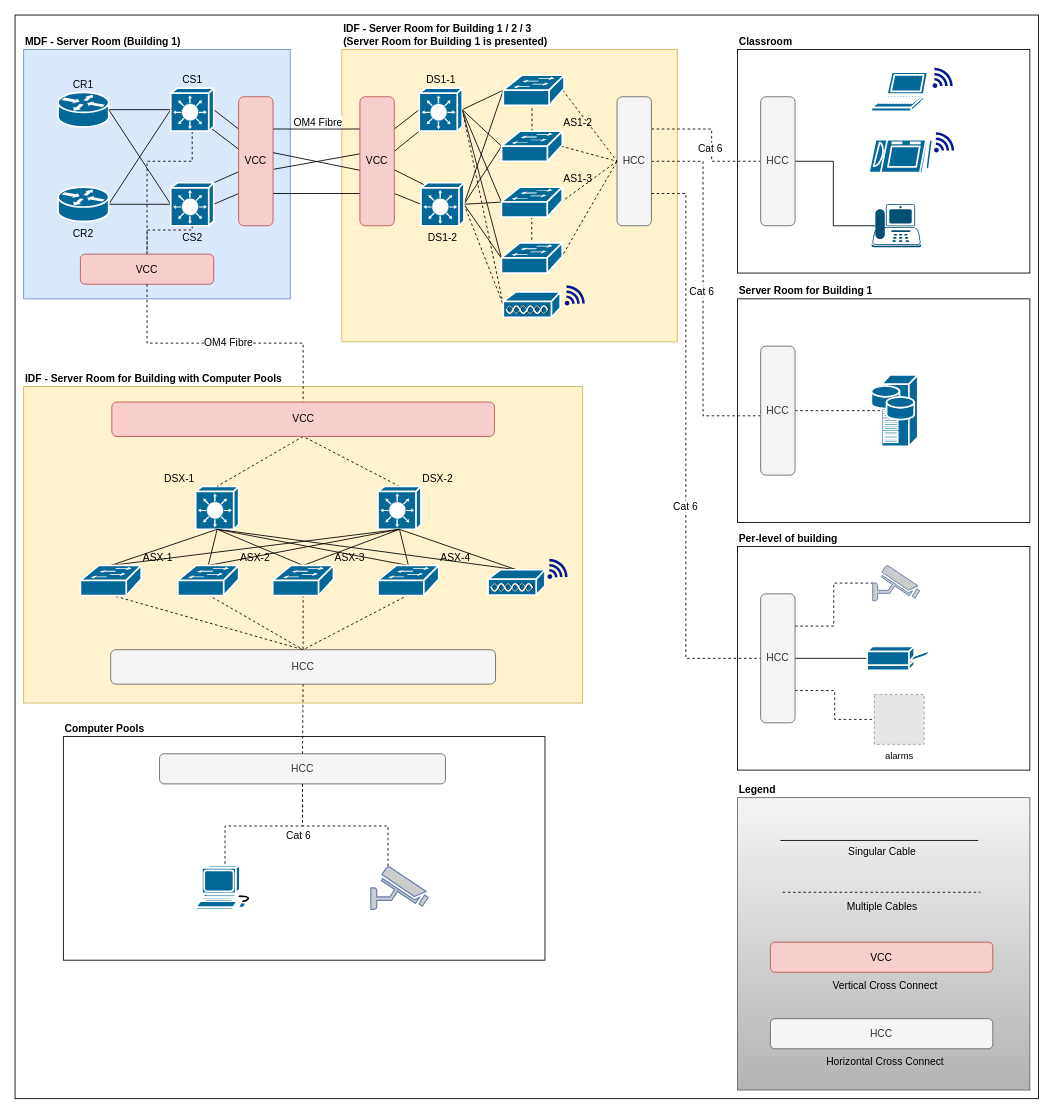
Image size: 1054x1114. Some labels were removed from this diagram. Grey dashed boxes stand in for pictures. Each missing label, with the centre of its shape:
"1 IP Phone" belongs at (896,225).
"1 printer" belongs at (899,658).
"AP1-1 to AP1-20" belongs at (531,304).
"APX-1 to APX-20" belongs at (516,582).
"AS1-1" belongs at (533,90).
"AS1-4" belongs at (531,257).
"cameras" belongs at (399,887).
"Laptops" belongs at (899,91).
"PCs" belongs at (224,887).
"security cameras" belongs at (895,582).
"server racks" belongs at (894,410).
"Tablets" belongs at (900,156).
